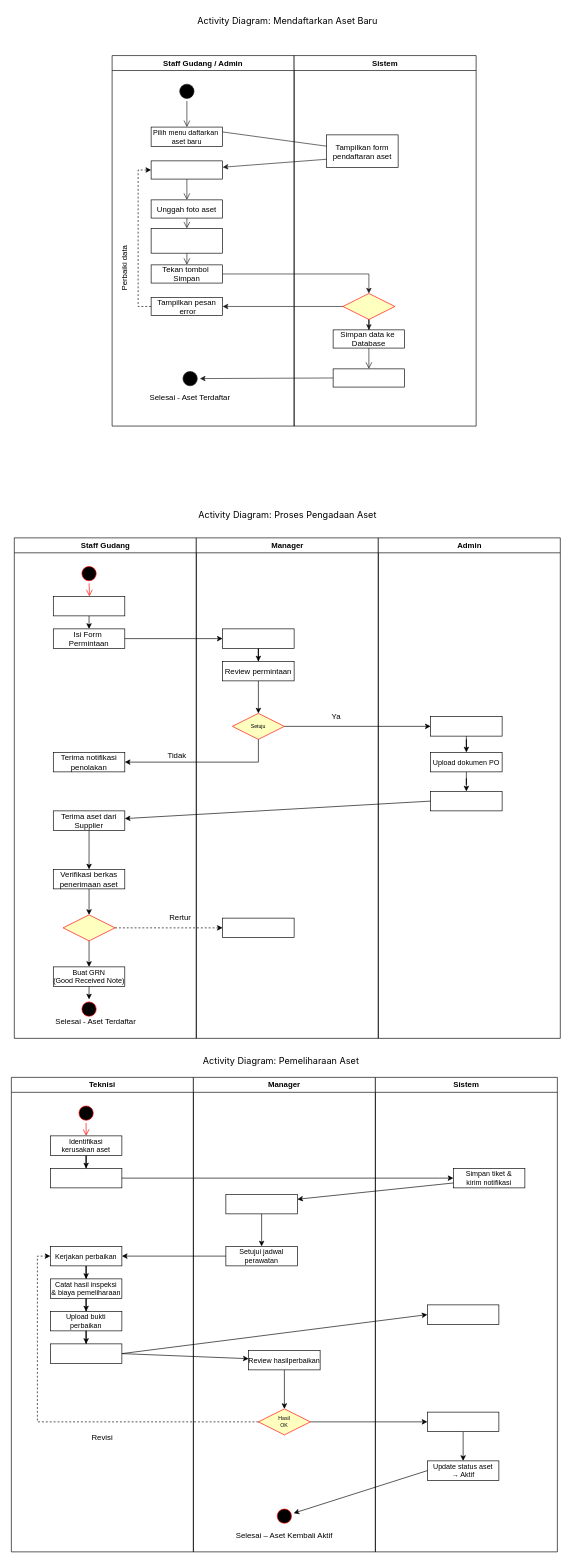
Some shapes in this 572 by 1563 pixel diagram are drawn without their labels. Each missing label, with the centre of its shape:
Buat laporan retur: [258,927]
Buat Permintaan Aset Baru: [89,606]
Buat Purchase Order: [466,726]
Buat tiket perbaikan: [86,1178]
Isi form data aset: [186,169]
Kirim PO ke Supplier: [466,801]
Notifikasi Berhasil Aset Terdaftar: [368,377]
Scan barcode/QR aset: [186,240]
Sesuai: [88,927]
Tandai tiket selesai: [86,1353]
Terima notifikasi: [258,638]
Tetapkan prioritas: [261,1204]
Tutup tiket perbaikan: [463,1421]
Update status tiket: [463,1314]
Validasi Data: [368,306]
